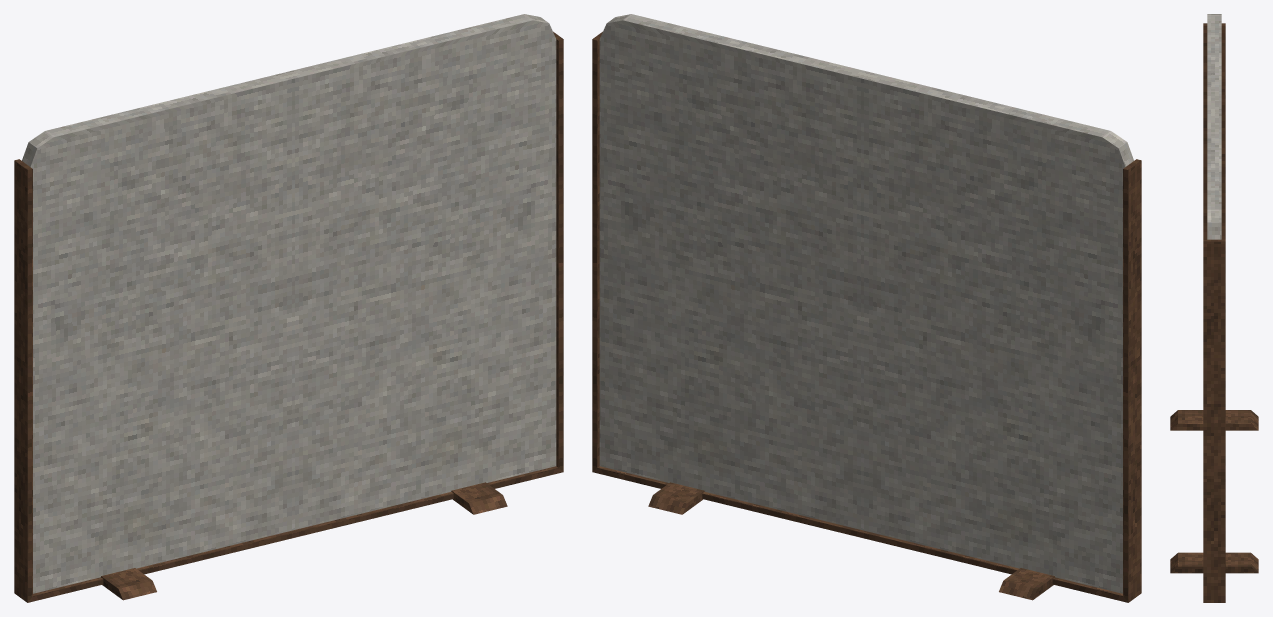
The model's file is divider_wood.glb.
The picture shows the model from 3 angles, left to right: view 1: azimuth 30°, elevation 25°; view 2: azimuth 150°, elevation 25°; view 3: azimuth 270°, elevation 25°; orthographic projection. The views are drawn at different scales.
Parts seen in each view (by area): view 1: divider_wood; view 2: divider_wood; view 3: divider_wood.
Part boxes in pixels (x1=…): divider_wood: x1=14, y1=14, x2=563, y2=602; divider_wood: x1=592, y1=14, x2=1141, y2=602; divider_wood: x1=1170, y1=14, x2=1258, y2=602.
Bounding box in the file's own units: 3.06 × 2.5 × 0.523.
Materials: 1 (1 with a texture image).
